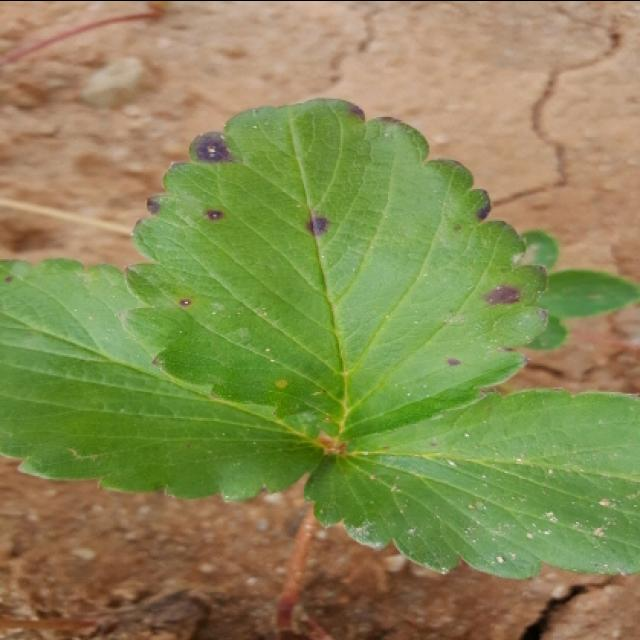Leaf Spot: (121, 95, 548, 442), (302, 387, 638, 582)
